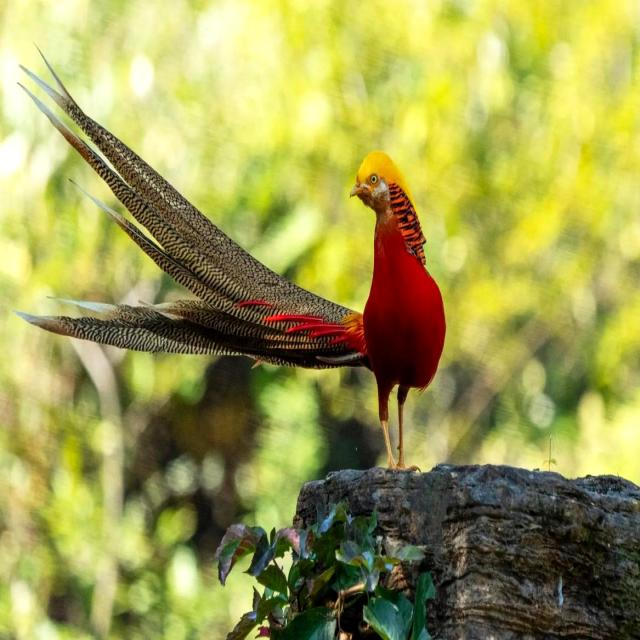Chrysolophus pictus feather: (13, 42, 370, 370)
